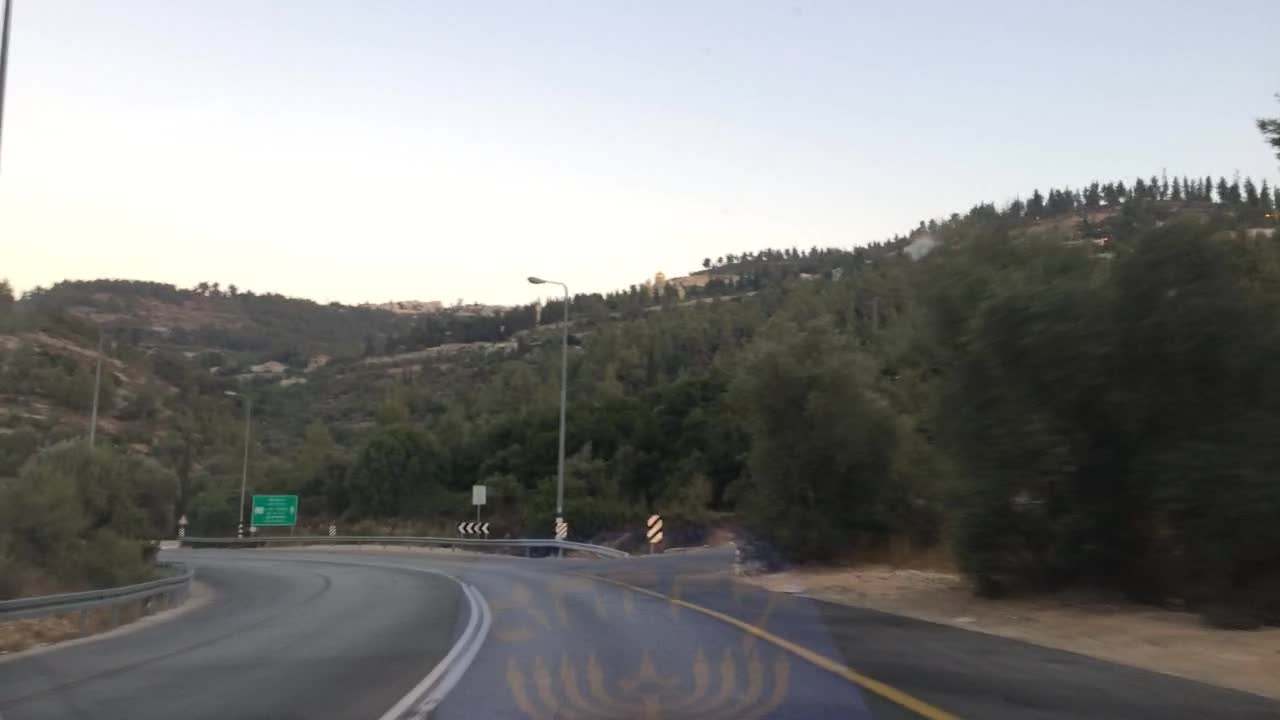traffic sign: (250, 492, 299, 528), (643, 511, 665, 544), (454, 521, 493, 535), (551, 518, 569, 540), (471, 485, 487, 504), (324, 522, 337, 536)
